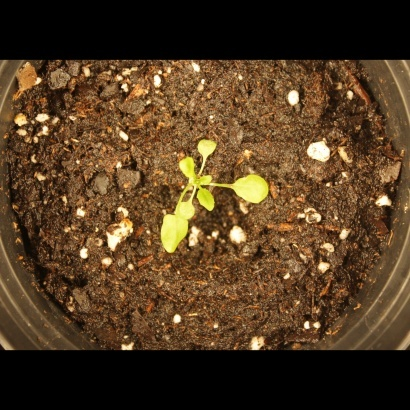leaf: (156, 207, 188, 257), (231, 172, 274, 203), (196, 186, 220, 216), (194, 134, 218, 160), (174, 202, 197, 225), (177, 160, 200, 183)
